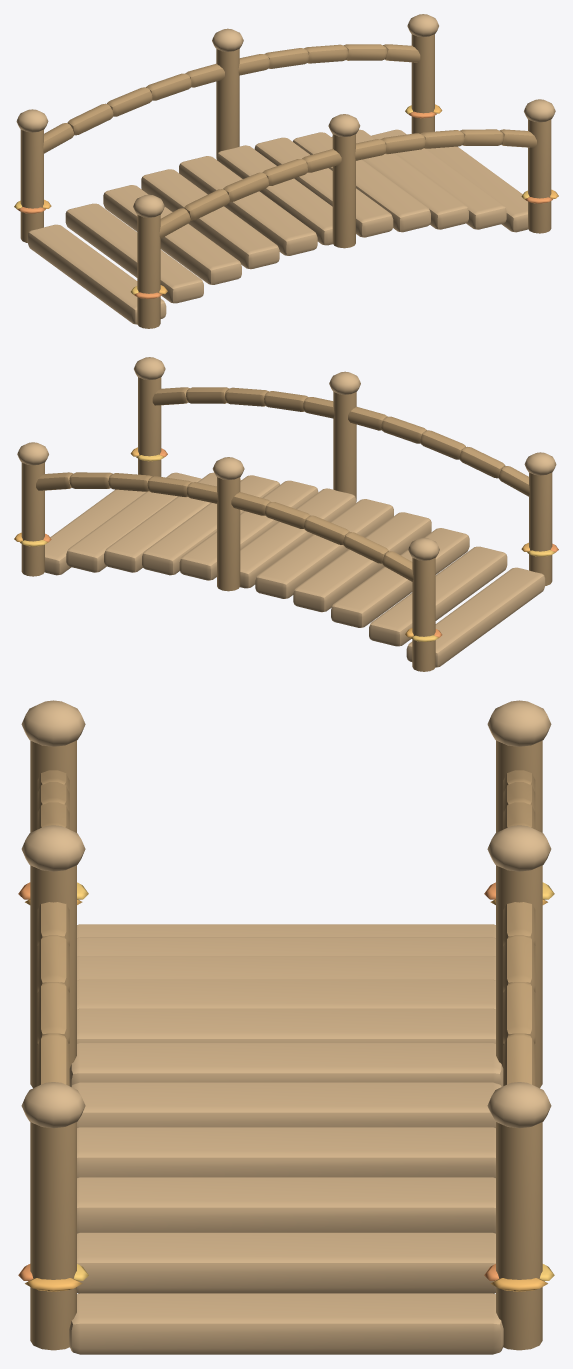
File: bridge_autumn_v1.glb
The picture shows the model from 3 angles, top to bottom: view 1: azimuth 30°, elevation 25°; view 2: azimuth 150°, elevation 25°; view 3: azimuth 270°, elevation 25°; orthographic projection. The views are drawn at different scales.
Bounding box in the file's own units: 3.35 × 1.25 × 1.84.
